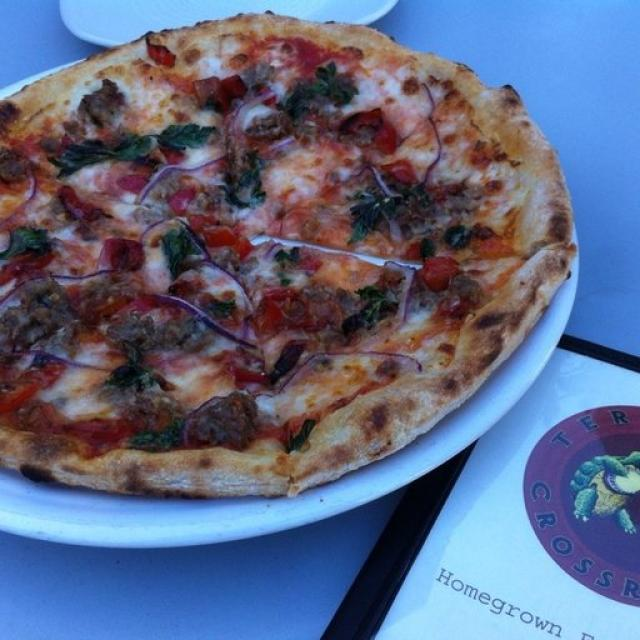Basil: (47, 136, 150, 177), (281, 62, 358, 111), (346, 287, 390, 331), (114, 346, 155, 392), (133, 422, 188, 452), (2, 229, 54, 259), (158, 232, 199, 270), (229, 161, 265, 203), (154, 123, 216, 147), (359, 195, 384, 242), (290, 417, 313, 451), (211, 297, 238, 321), (448, 225, 468, 254), (280, 250, 291, 286)
Beef: (27, 282, 72, 345), (88, 78, 123, 127), (206, 409, 254, 438), (0, 147, 37, 183), (161, 315, 199, 348), (104, 316, 154, 341), (0, 306, 26, 353), (248, 114, 294, 139), (407, 215, 448, 237), (252, 59, 271, 102), (448, 190, 481, 208), (280, 298, 305, 321), (456, 278, 478, 304), (134, 208, 164, 226), (297, 116, 315, 143), (92, 279, 110, 305), (357, 126, 377, 146), (64, 118, 88, 134), (41, 138, 57, 152)
Ham: (60, 185, 107, 220), (105, 238, 146, 272), (193, 74, 229, 111), (316, 302, 345, 326), (118, 180, 146, 193)
Onions: (272, 340, 419, 395), (155, 294, 257, 347), (388, 260, 413, 323), (8, 179, 36, 222), (264, 243, 282, 258)
Pizza: (0, 14, 574, 502)
Tomato: (195, 214, 247, 254), (238, 352, 270, 390), (424, 255, 459, 288), (342, 108, 382, 131), (4, 384, 34, 412), (148, 44, 177, 68), (222, 76, 248, 101), (40, 355, 66, 380), (259, 304, 279, 334), (382, 127, 400, 158), (172, 188, 192, 214), (159, 148, 186, 166), (390, 165, 417, 182)
